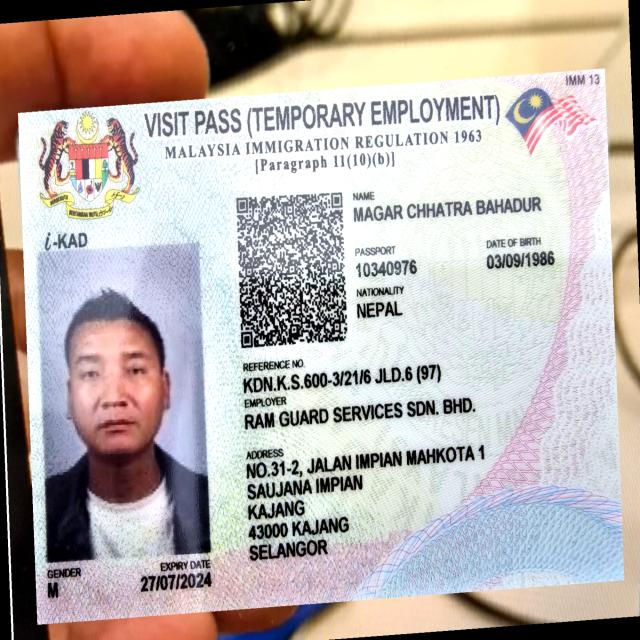ikad-temp: (16, 68, 628, 624)
